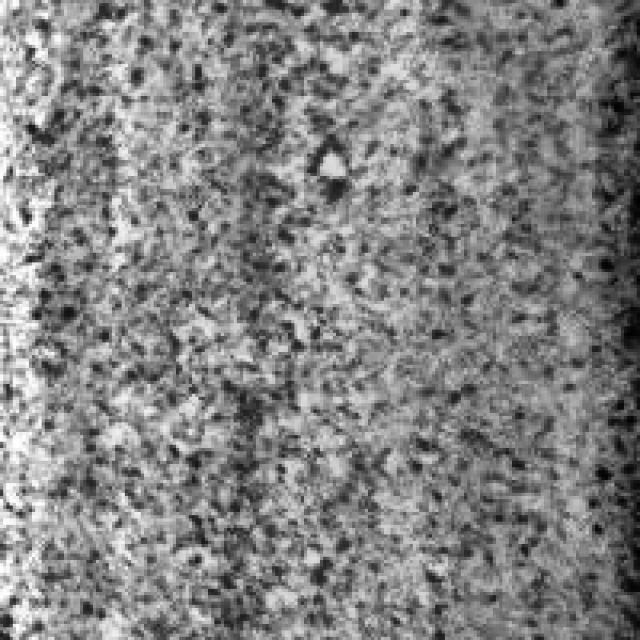Rolled_in_Scale: (0, 0, 637, 630)
